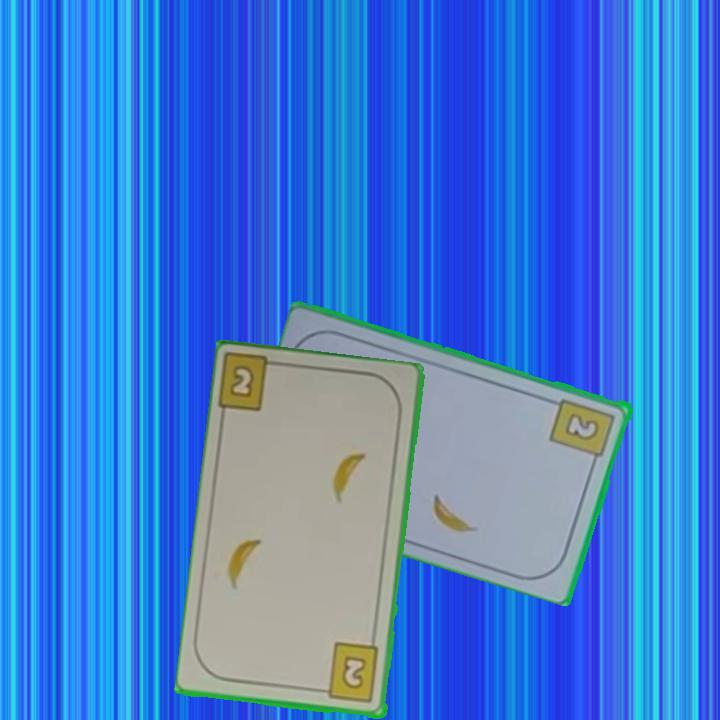2b: (547, 394, 619, 468), (217, 353, 288, 415), (316, 640, 382, 706)
